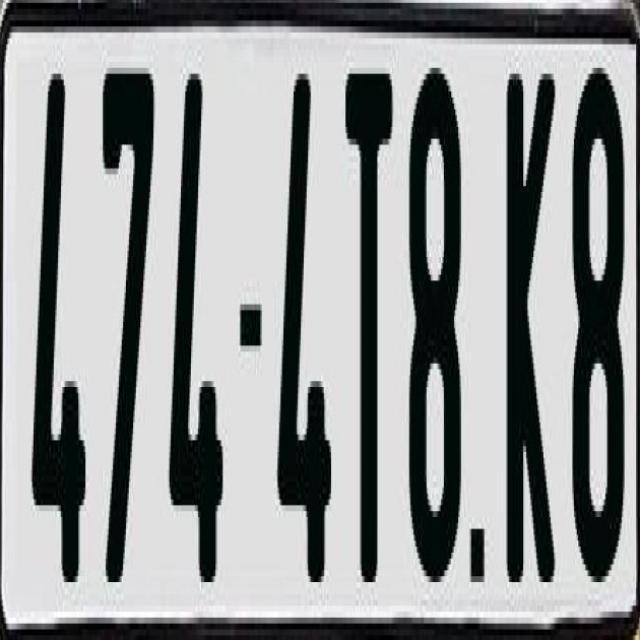license-plate: (2, 1, 640, 630)
